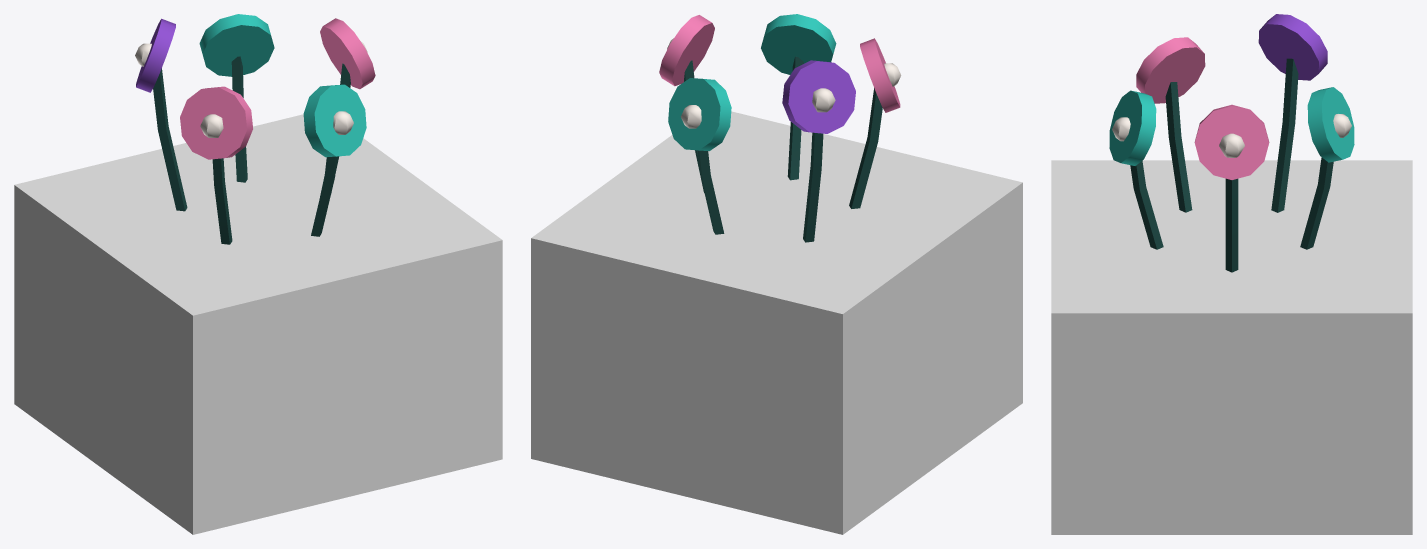
Rendered from Candy_Planter.fbx.
3 renders of one model, left to right at view 1: azimuth 30°, elevation 25°; view 2: azimuth 150°, elevation 25°; view 3: azimuth 270°, elevation 25°, orthographic.
Parts seen in each view (by area): view 1: COL_Candy_Planter_0, Candy_Planter_Flowers; view 2: COL_Candy_Planter_0, Candy_Planter_Flowers; view 3: COL_Candy_Planter_0, Candy_Planter_Flowers.
Boxes of the visible parts, x1,y1,x2,y2 form: COL_Candy_Planter_0: (14,114,502,534); Candy_Planter_Flowers: (135,14,375,244); COL_Candy_Planter_0: (531,111,1022,534); Candy_Planter_Flowers: (659,14,901,242); COL_Candy_Planter_0: (1051,160,1412,534); Candy_Planter_Flowers: (1109,14,1354,272).
Bounding box in the file's own units: 0.68 × 0.8501 × 0.68.
